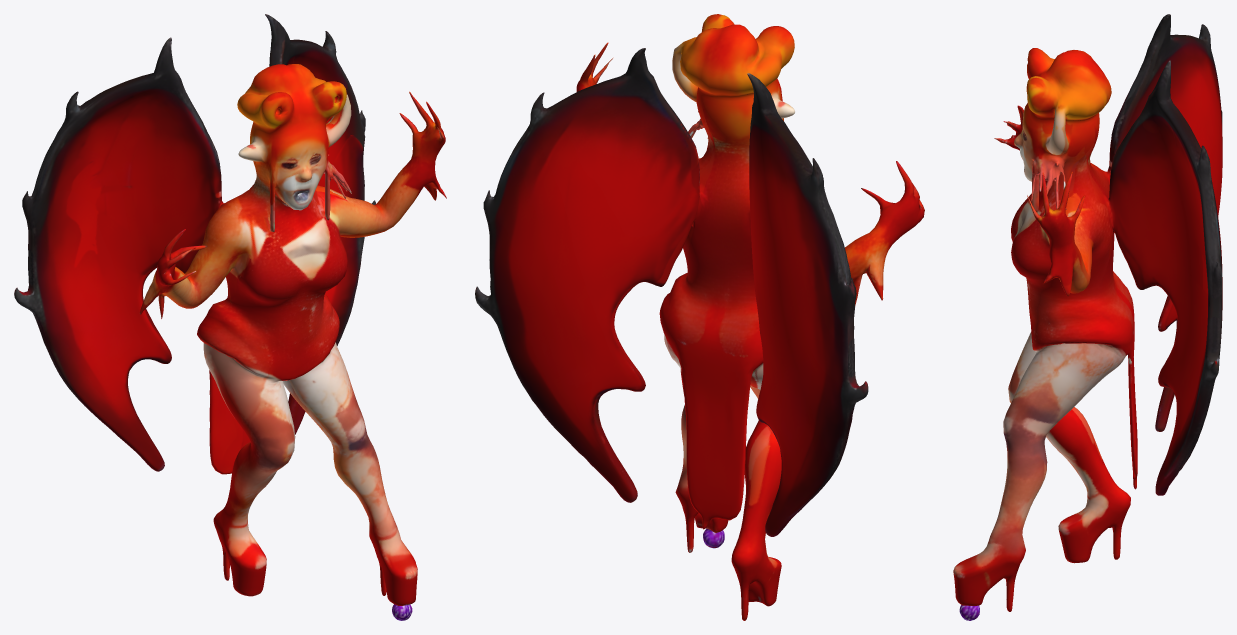
Rendered from dragona.glb.
3 renders of one model, left to right at view 1: azimuth 30°, elevation 25°; view 2: azimuth 150°, elevation 25°; view 3: azimuth 270°, elevation 25°, orthographic. The views are drawn at different scales.
Visible parts, largest first — view 1: model; view 2: model; view 3: model.
Part boxes in pixels (x1,y1,x2,y2): model: [14, 14, 446, 620]; model: [475, 14, 924, 620]; model: [953, 14, 1222, 620].
Size of the model in its own units: 1.33 by 1.9 by 0.8573.
Materials: 1 (1 with a texture image).
